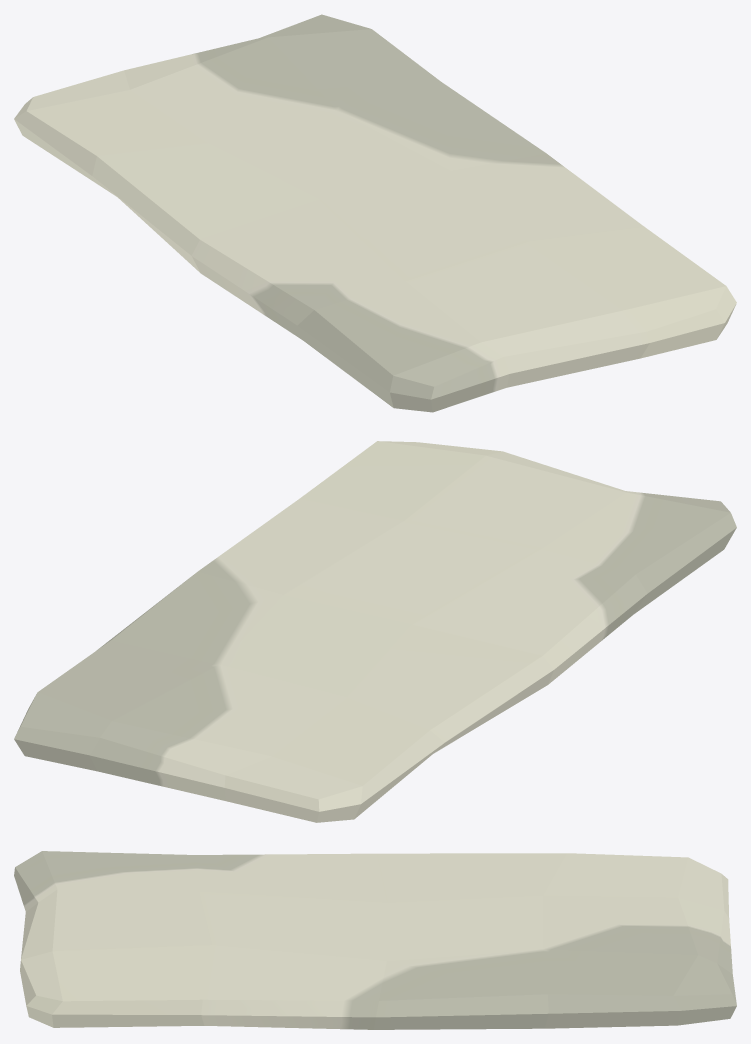
The model's file is samurai_SM_Prop_Bed_02.gltf.
The picture shows the model from 3 angles, top to bottom: view 1: azimuth 30°, elevation 25°; view 2: azimuth 150°, elevation 25°; view 3: azimuth 270°, elevation 25°; orthographic projection. The views are drawn at different scales.
Visible parts, largest first — view 1: SM_Prop_Bed_02; view 2: SM_Prop_Bed_02; view 3: SM_Prop_Bed_02.
Boxes of the visible parts, bbox=[...] form: SM_Prop_Bed_02: bbox=[14, 14, 736, 412]; SM_Prop_Bed_02: bbox=[14, 441, 736, 822]; SM_Prop_Bed_02: bbox=[14, 851, 736, 1029].
Size of the model in its own units: 1.34 by 0.1536 by 2.59.
Materials: 1 (1 with a texture image).
